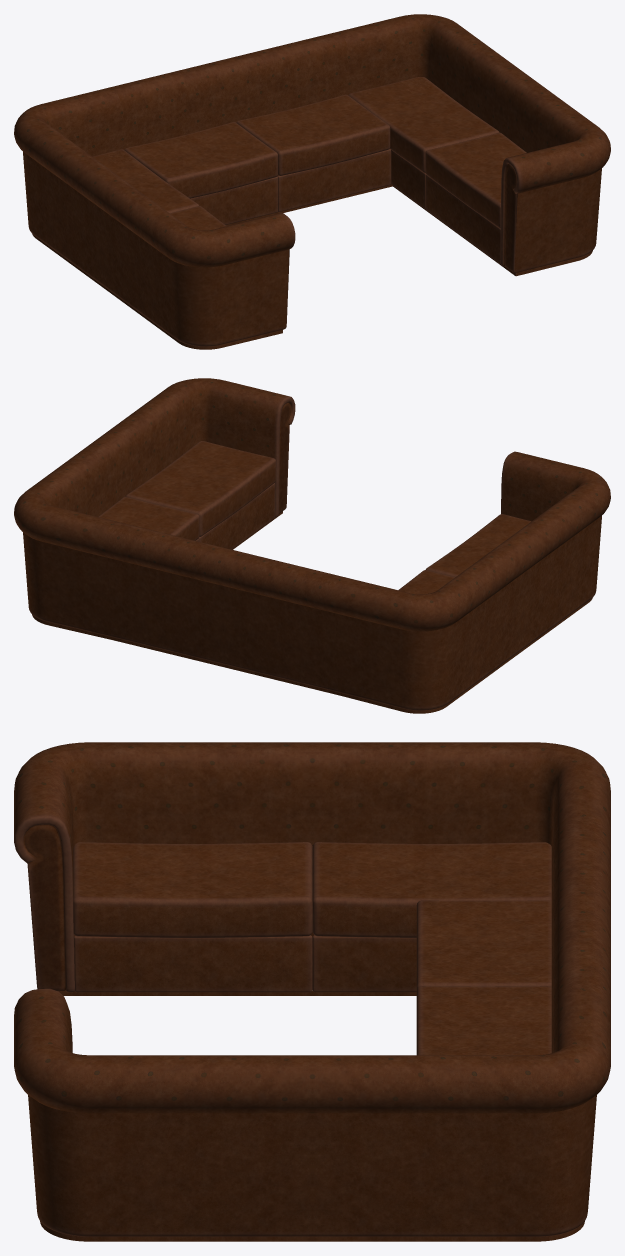
Rendered from SofaRetro01_3.FBX.
3 renders of one model, top to bottom at view 1: azimuth 30°, elevation 25°; view 2: azimuth 150°, elevation 25°; view 3: azimuth 270°, elevation 25°, orthographic. The views are drawn at different scales.
Visible parts, largest first — view 1: SofaRetro01_3; view 2: SofaRetro01_3; view 3: SofaRetro01_3.
Boxes of the visible parts, x1,y1,x2,y2 form: SofaRetro01_3: [14, 14, 610, 349]; SofaRetro01_3: [14, 378, 610, 713]; SofaRetro01_3: [14, 742, 610, 1241].
Size of the model in its own units: 4000 by 1007 by 2985.
